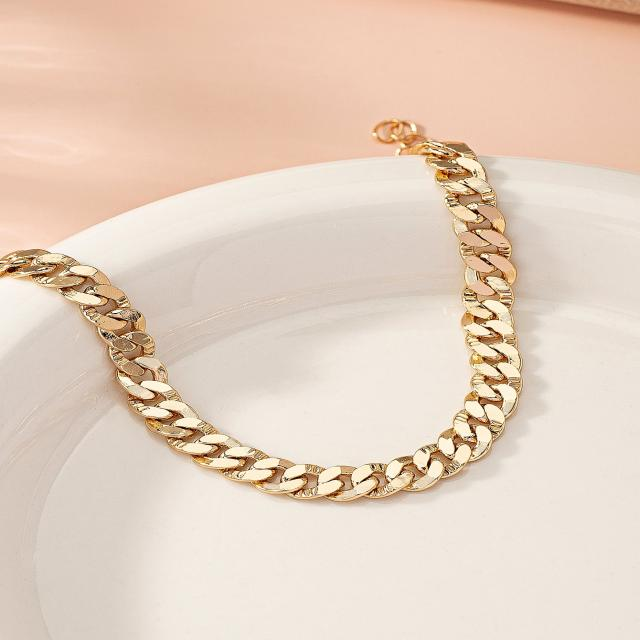bracelet: (4, 73, 591, 520)
